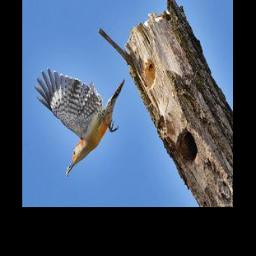Woodpecker: (33, 66, 125, 178)
